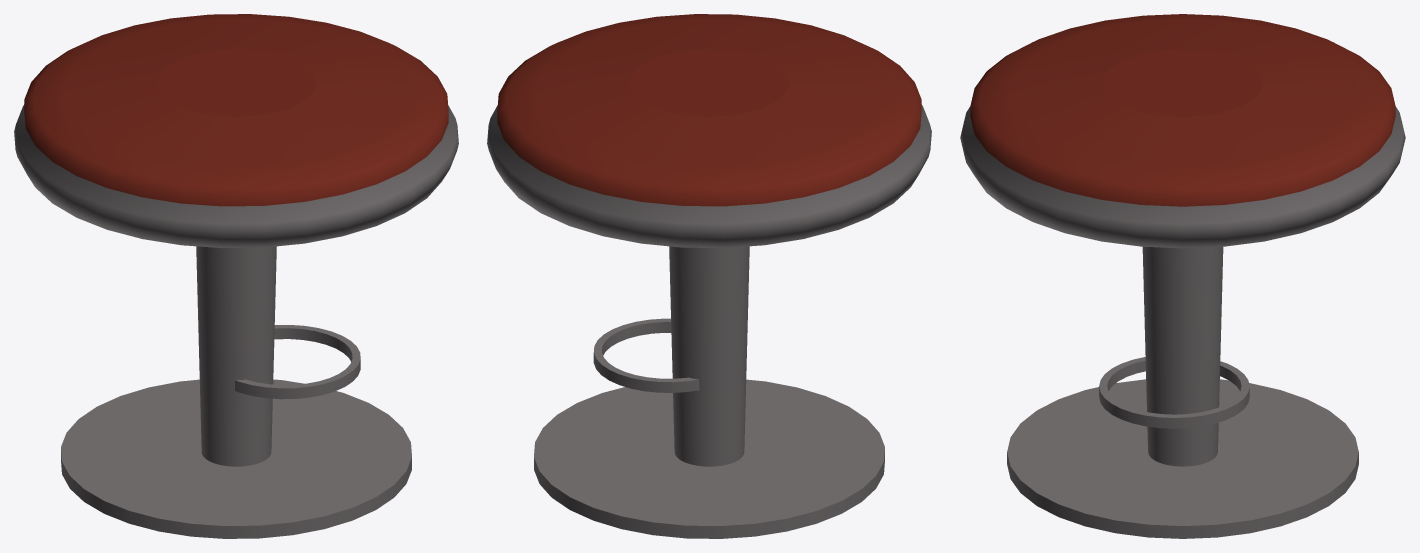
Rendered from Chair.fbx.
The picture shows the model from 3 angles, left to right: view 1: azimuth 30°, elevation 25°; view 2: azimuth 150°, elevation 25°; view 3: azimuth 270°, elevation 25°; orthographic projection.
Parts seen in each view (by area): view 1: Cylinder.007; view 2: Cylinder.007; view 3: Cylinder.007.
Part boxes in pixels (box(x1,y1,x2,y2)): Cylinder.007: box(14, 14, 458, 538); Cylinder.007: box(487, 14, 931, 538); Cylinder.007: box(960, 14, 1405, 538).
Size of the model in its own units: 139 by 131 by 139.
